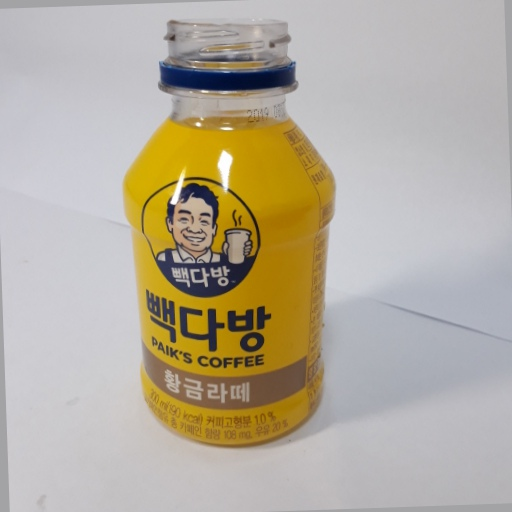Plastic_0: (119, 10, 339, 452)
